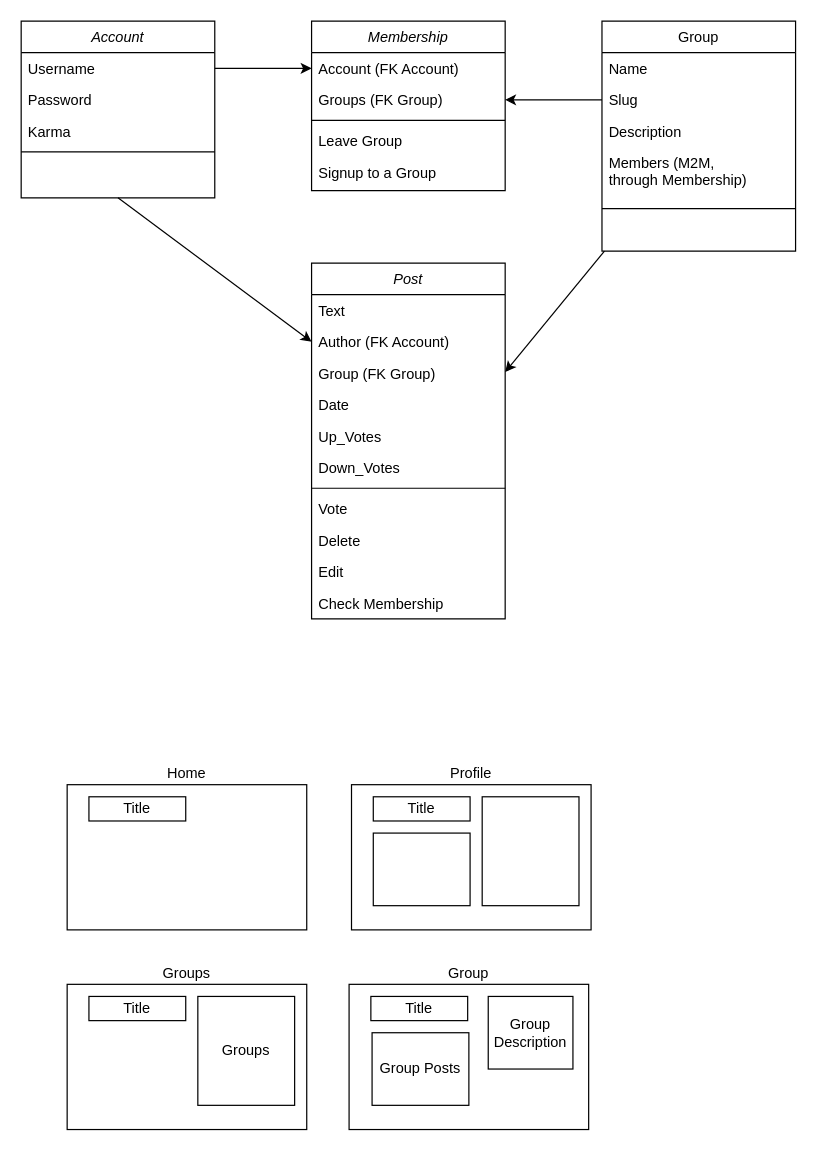
This 817x1151 diagram has some shape labels left out. Here are the shapes that lost their labels. From the top down, the centre of each, then its label:
(421,869): Most recent posts
(530,851): My Groups
